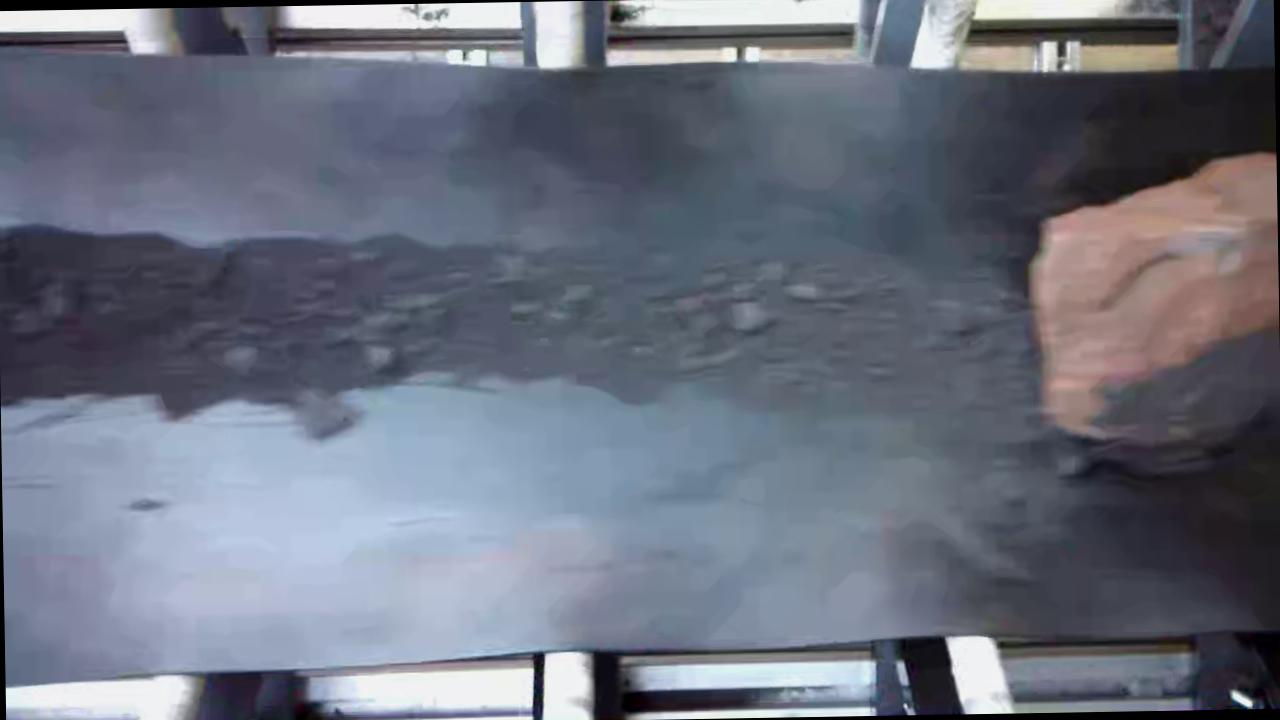conveyor: (0, 67, 1280, 649)
